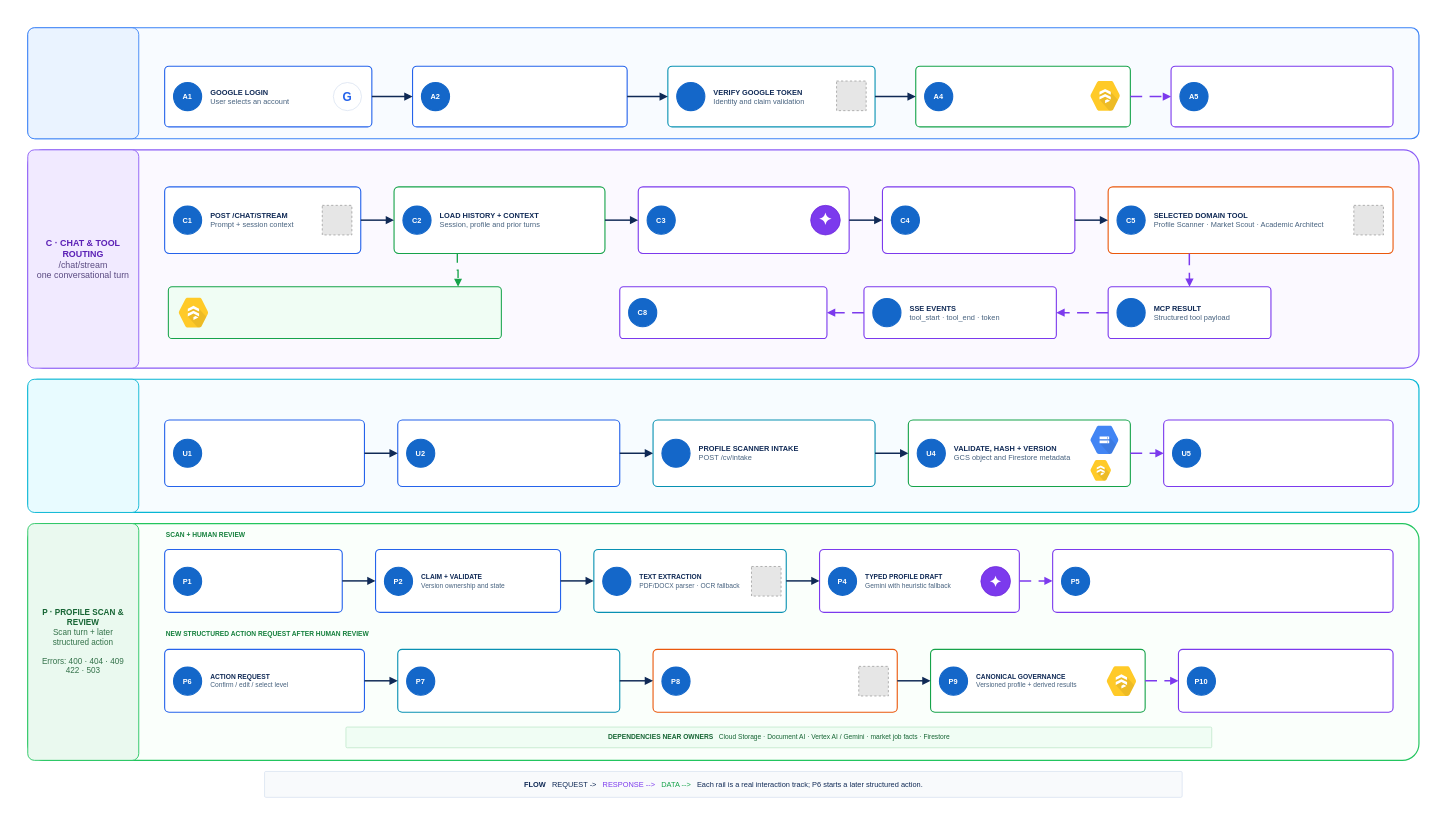
The diagram is 1446 pixels wide and 824 high, and some of its shapes have lost their labels. Grey dashed boxes stand in for pictures. Each missing label, with the box of its shape:
A · AUTH & SESSION Interactive login and workspace state: (27, 27, 139, 139)
A3: (676, 82, 705, 111)
BENCHMARK + SCORE Dynamic market facts; deterministic rules: (652, 648, 897, 712)
C6: (1116, 298, 1145, 327)
C7: (872, 298, 901, 327)
FASTMCP GATEWAY Normalize, log and dispatch: (882, 186, 1075, 254)
FIRESTORE / LOCAL JSON FALLBACK History · sessions · persisted exchanges: (167, 286, 501, 339)
INTAKE RECEIPT Versioned document reference: (1163, 419, 1393, 487)
LANGGRAPH REACT Gemini plans the next tool action: (637, 186, 849, 254)
NORMALIZE PROFILE Validated typed fields and target: (397, 648, 620, 712)
P3: (602, 566, 631, 596)
POST /AUTH/LOGIN Bearer credential to FastAPI: (412, 65, 627, 127)
REACT RENDER Tokens, tool cards and widgets: (619, 286, 827, 339)
READY WORKSPACE Profile, history and sessions: (1170, 65, 1393, 127)
RESULT WIDGET Score + profile version: (1178, 648, 1393, 712)
SCAN TOOL REQUEST Later /chat/stream turn: (164, 549, 342, 613)
SELECT + UPLOAD CV PDF or DOCX from React: (164, 419, 365, 487)
U · CV UPLOAD Independent HTTP intake interaction: (27, 378, 139, 513)
U3: (661, 438, 690, 468)
UPLOAD PROXY /profile-scanner/cv/upload: (397, 419, 620, 487)
UPSERT USER / SESSION Firestore; JSON fallback locally: (915, 65, 1131, 127)
USER REVIEW WIDGET Edit fields · confirm evidence · choose target level: (1052, 549, 1393, 613)
